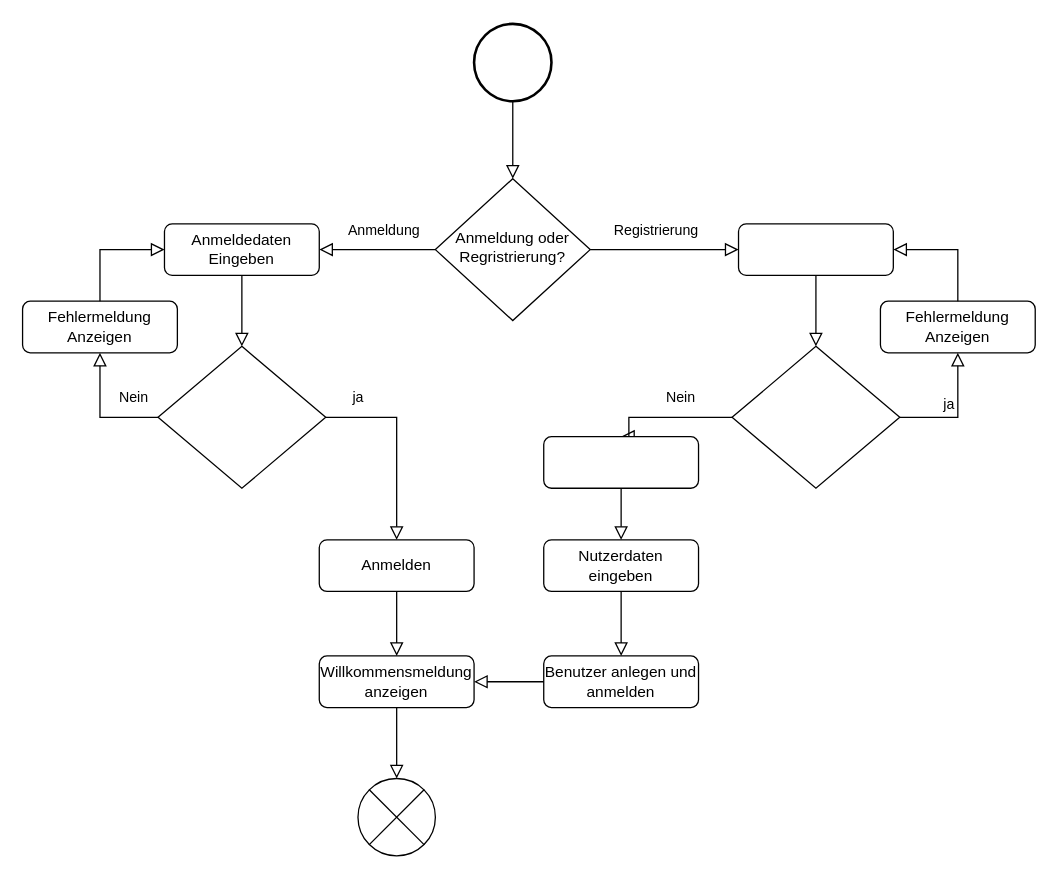
The diagram is 1058 pixels wide and 878 high, and some of its shapes have lost their labels. Each missing label, with the centre of its shape:
"Anmeldedaten korrekt?" belongs at [241,416].
"Email bereits Vorhanden?" belongs at [815,416].
"Email eingeben" belongs at [815,249].
"Passwort erstellen" belongs at [620,461].
